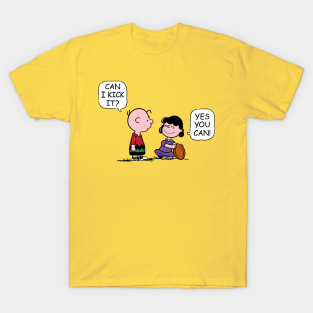design: (97, 78, 217, 163)
